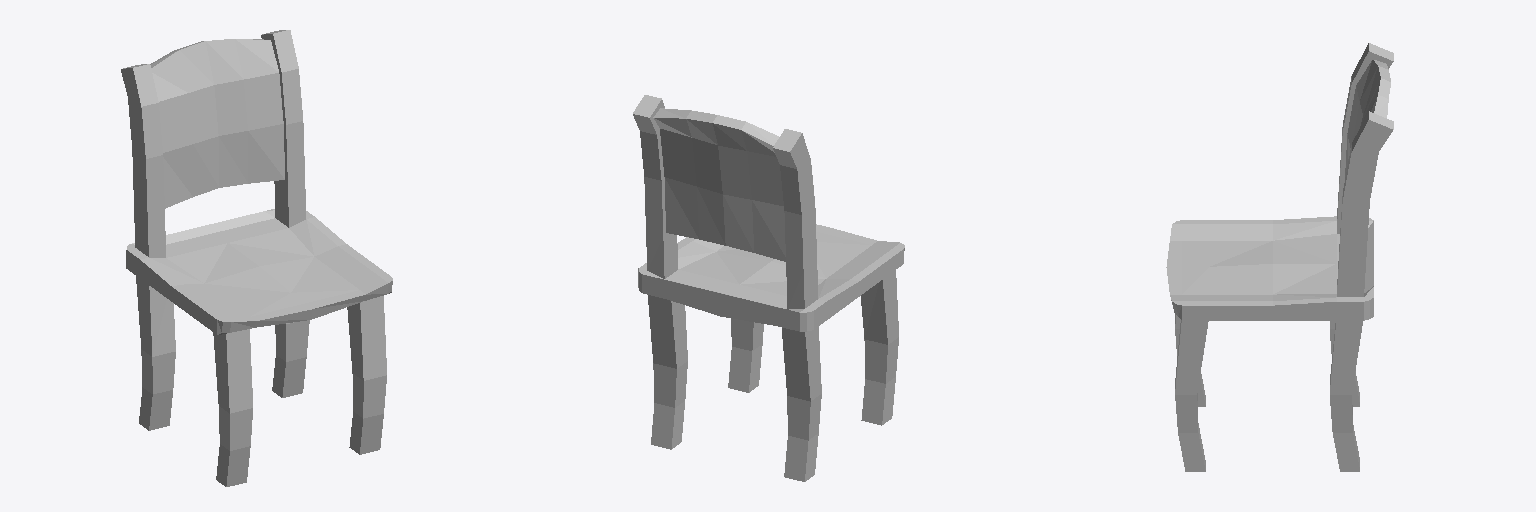
Rendered from Chair.obj.
3 views of the same model, side by side, from view 1: azimuth 30°, elevation 25°; view 2: azimuth 150°, elevation 25°; view 3: azimuth 270°, elevation 25° (orthographic).
Parts seen in each view (by area): view 1: pCube3 group2; view 2: pCube3 group2; view 3: pCube3 group2.
Boxes of the visible parts, box(x1,y1,x2,y2) form: pCube3 group2: box(121, 30, 392, 486); pCube3 group2: box(633, 95, 904, 481); pCube3 group2: box(1166, 43, 1393, 471).
Bounding box in the file's own units: 116 × 226 × 131.